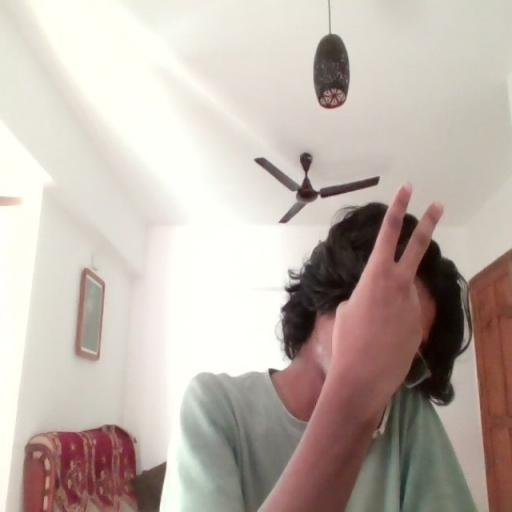scissor: (335, 182, 446, 406)
